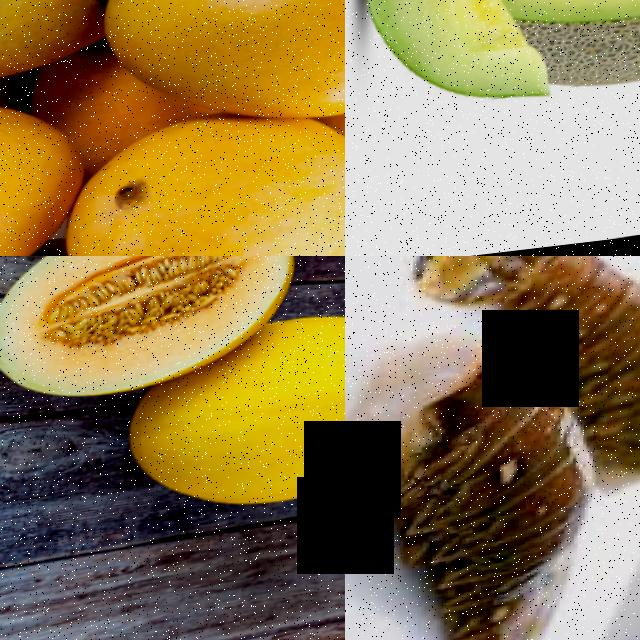lobster tails: (345, 348, 602, 640), (411, 256, 640, 362)
mango: (66, 106, 345, 256), (97, 0, 345, 141), (0, 84, 81, 256), (0, 0, 113, 96)
melon: (0, 256, 294, 396), (123, 350, 345, 535), (345, 0, 551, 139)
